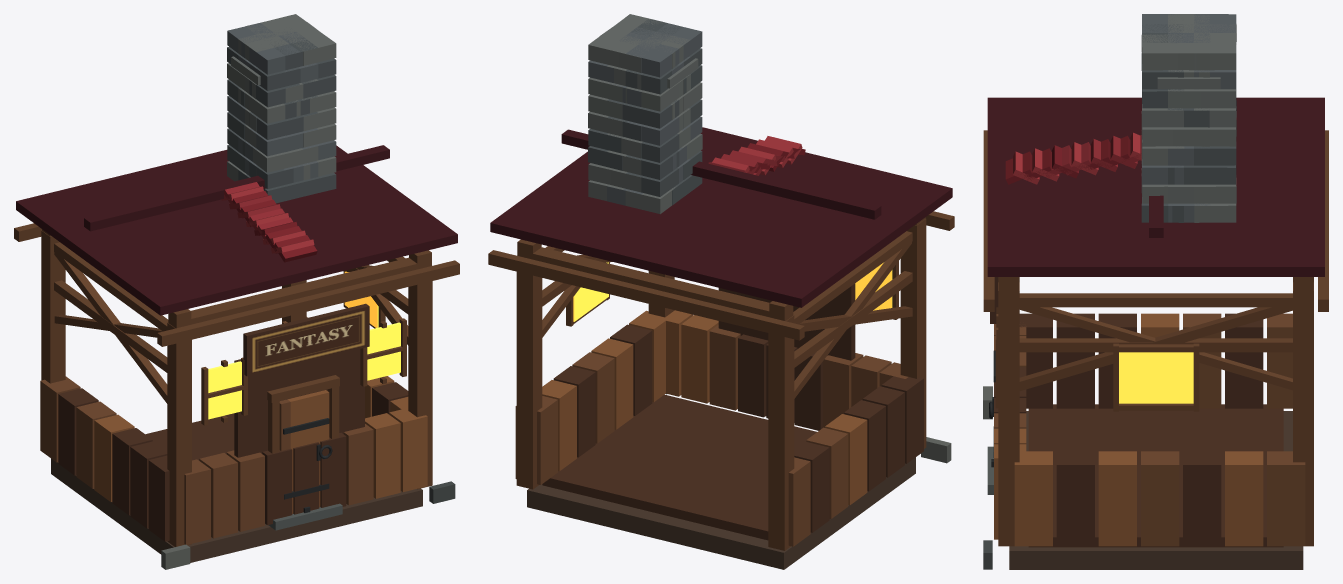
Rendered from inn.glb.
The picture shows the model from 3 angles, left to right: view 1: azimuth 30°, elevation 25°; view 2: azimuth 150°, elevation 25°; view 3: azimuth 270°, elevation 25°; orthographic projection. The views are drawn at different scales.
Parts seen in each view (by area): view 1: Medieval_Fantasy_Inn, Shingled_Roof, Stone_Chimney, Front_Windows, Front_Door, Fantasy_Sign; view 2: Medieval_Fantasy_Inn, Shingled_Roof, Stone_Chimney, Front_Windows, Right_Side_Window; view 3: Medieval_Fantasy_Inn, Shingled_Roof, Stone_Chimney, Right_Side_Window, Front_Door.
Boxes of the visible parts, box(x1,y1,x2,y2) form: Medieval_Fantasy_Inn: box(40, 229, 455, 569); Shingled_Roof: box(14, 145, 459, 346); Stone_Chimney: box(227, 14, 336, 203); Front_Windows: box(201, 318, 406, 457); Front_Door: box(267, 375, 342, 530); Fantasy_Sign: box(243, 303, 369, 376); Medieval_Fantasy_Inn: box(515, 217, 951, 569); Shingled_Roof: box(488, 127, 954, 340); Stone_Chimney: box(588, 14, 702, 214); Front_Windows: box(718, 261, 898, 360); Right_Side_Window: box(566, 262, 609, 326); Medieval_Fantasy_Inn: box(983, 277, 1313, 569); Shingled_Roof: box(983, 97, 1328, 311); Stone_Chimney: box(1141, 14, 1236, 222); Right_Side_Window: box(1113, 343, 1199, 411); Front_Door: box(987, 324, 998, 494).
Bounding box in the file's own units: 6.52 × 8.91 × 5.59.
18 materials, 1 textured.
